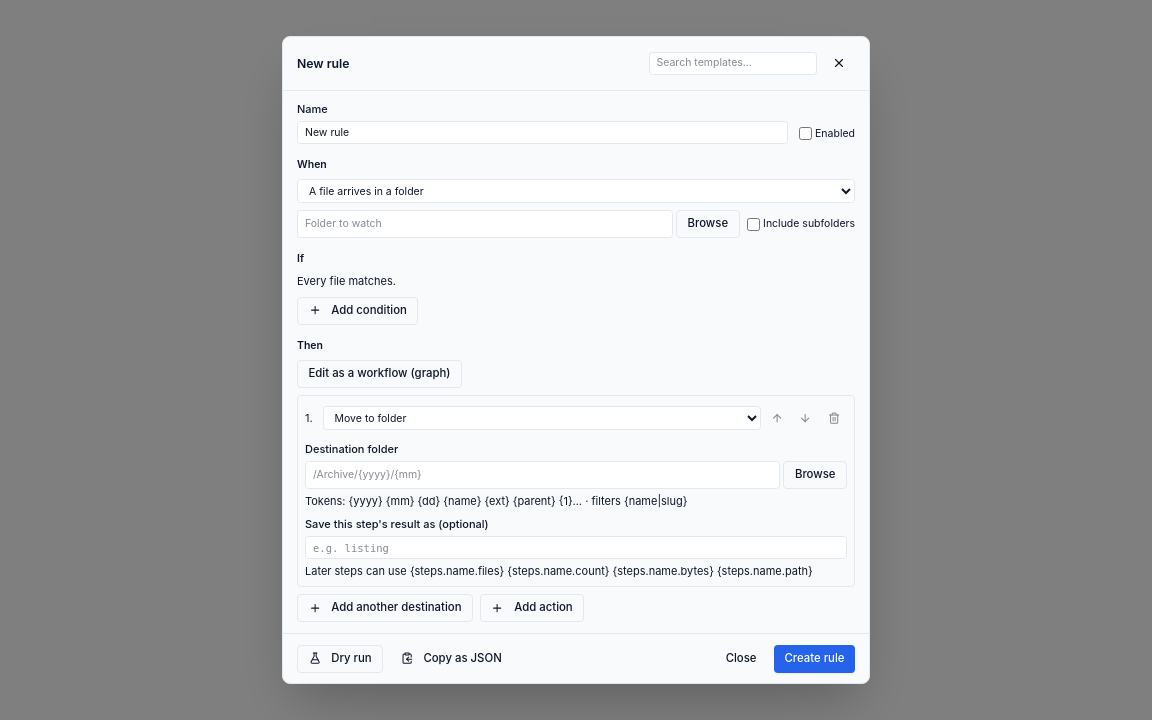
Test case: rule editor in Advanced mode › asks for confirmation when the risk check itself fails inside the app
Type "/in" into the field labelled "Folder to watch" at x=485, y=224, box 297,210 -> 672,238
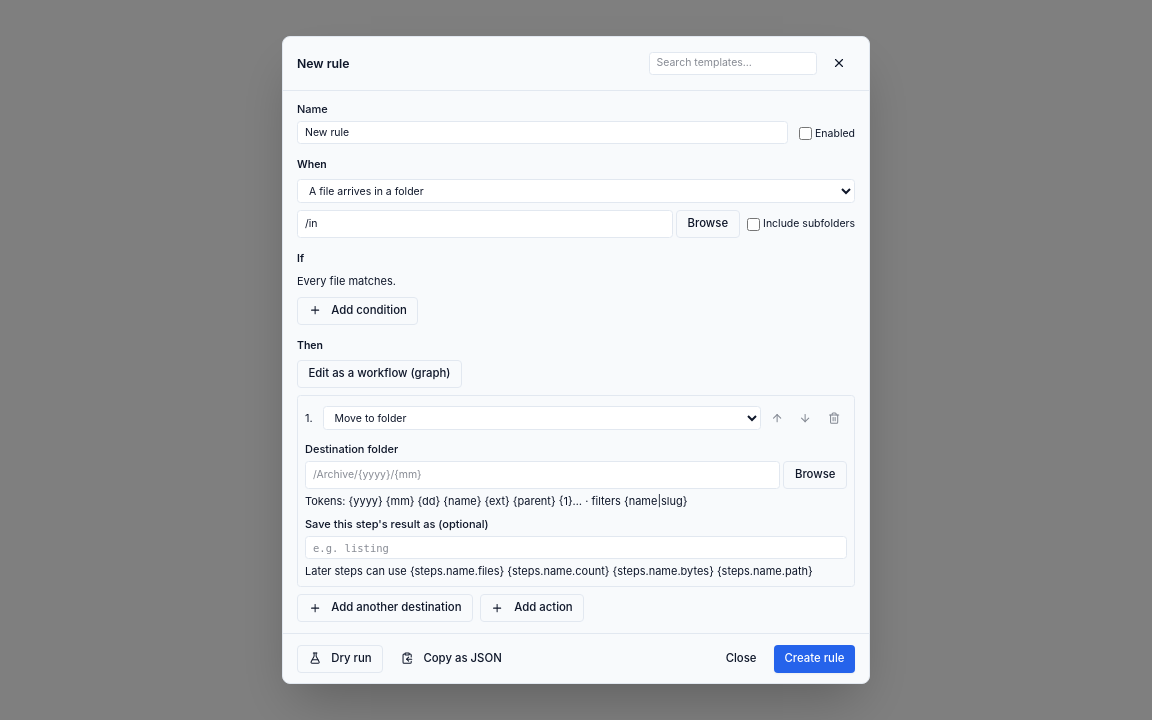
Type "/out" into the field labelled "Destination folder" at x=542, y=475, box 305,461 -> 780,489
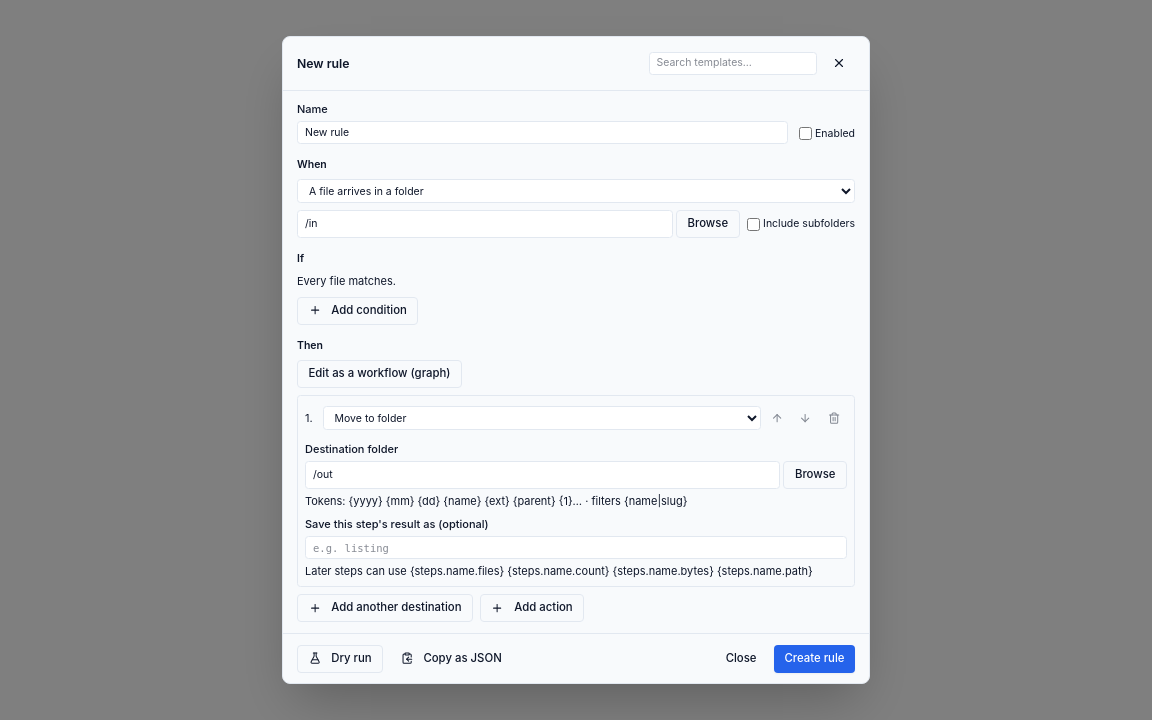
Click the button "Create rule" at x=814, y=658, box 774,644 -> 855,672
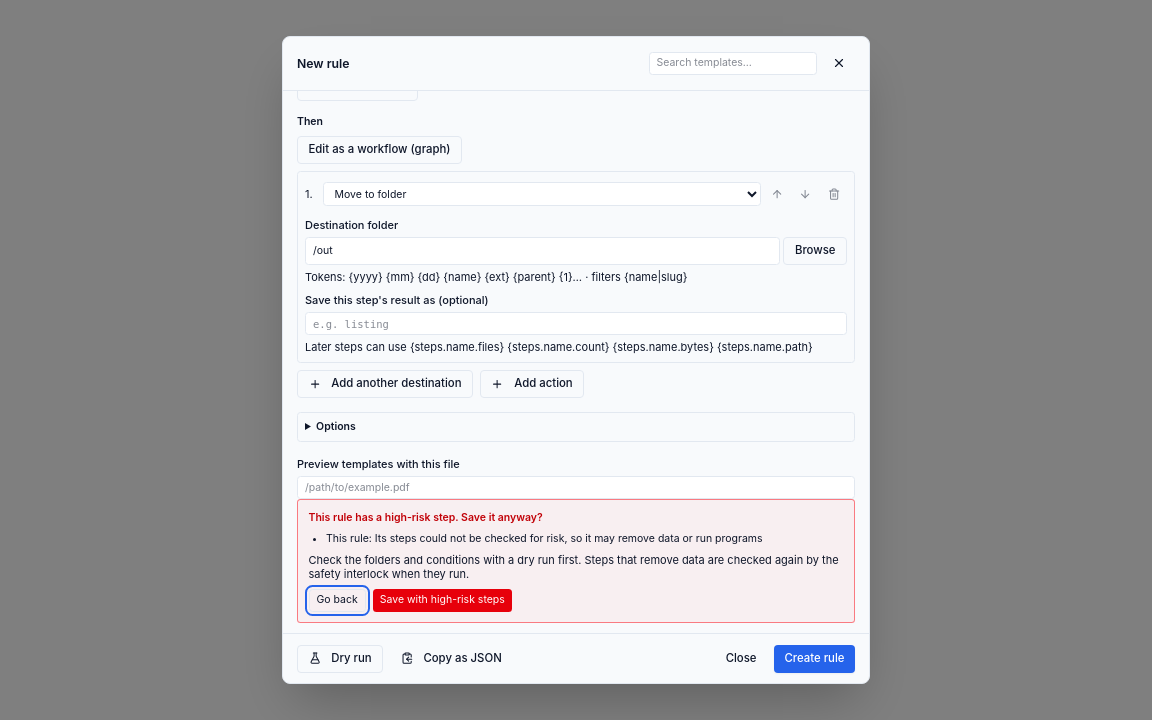
Now the dialog shows "could not be checked", box 375,532 -> 763,544
